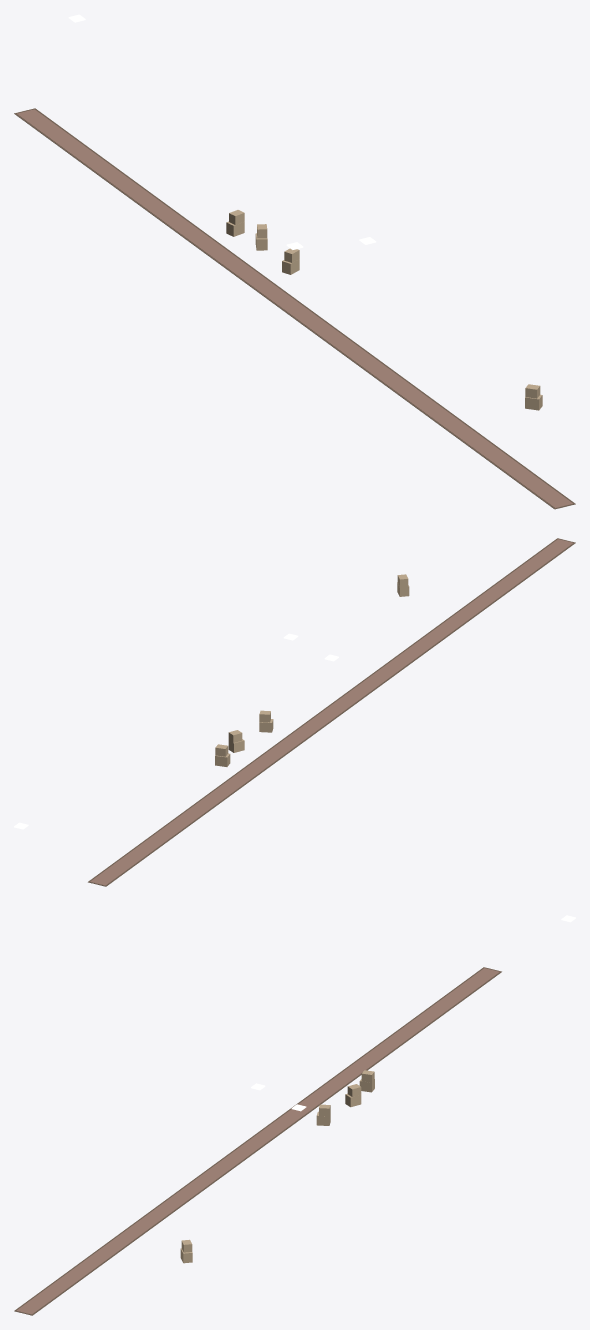
File: fine-s0.glb
3 views of the same model, one above another, from view 1: azimuth 30°, elevation 25°; view 2: azimuth 150°, elevation 25°; view 3: azimuth 330°, elevation 25° (orthographic). The views are drawn at different scales.
Parts seen in each view (by area): view 1: soft-s0; view 2: soft-s0; view 3: soft-s0.
Part boxes in pixels (bbox=[...]): soft-s0: bbox=[14, 108, 575, 509]; soft-s0: bbox=[88, 538, 575, 886]; soft-s0: bbox=[14, 967, 501, 1315].
Size of the model in its own units: 4.54 by 2.84 by 45.6.
